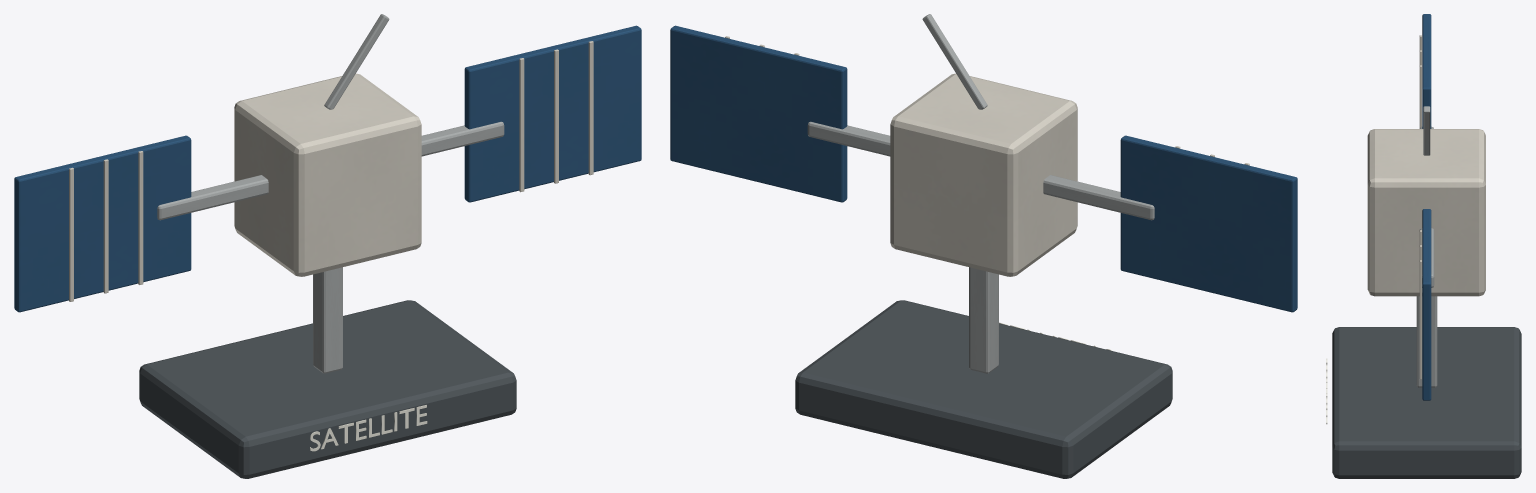
File: satellite_display_miniature.glb
The picture shows the model from 3 angles, left to right: view 1: azimuth 30°, elevation 25°; view 2: azimuth 150°, elevation 25°; view 3: azimuth 270°, elevation 25°; orthographic projection. The views are drawn at different scales.
Parts seen in each view (by area): view 1: DisplayBase.002, SatelliteBus, SolarPanel, SolarPanel.001, DisplayStem, ArrayBoom, ArrayBoom.001, Antenna, LABEL_SATELLITE, CellSeparator.001, CellSeparator.005, CellSeparator.003 (+3 smaller); view 2: DisplayBase.002, SatelliteBus, SolarPanel, SolarPanel.001, DisplayStem, ArrayBoom, ArrayBoom.001, Antenna; view 3: DisplayBase.002, SatelliteBus, SolarPanel.001, DisplayStem, SolarPanel, Antenna, CellSeparator.005, ArrayBoom.001.
Part boxes in pixels (x1,y1,x2,y2): DisplayBase.002: [139, 300, 516, 478]; SatelliteBus: [234, 73, 421, 276]; SolarPanel: [14, 135, 191, 312]; SolarPanel.001: [464, 25, 641, 202]; DisplayStem: [313, 267, 342, 373]; ArrayBoom: [157, 175, 268, 220]; ArrayBoom.001: [421, 121, 504, 156]; Antenna: [324, 14, 389, 109]; LABEL_SATELLITE: [310, 405, 427, 451]; CellSeparator.001: [103, 159, 108, 293]; CellSeparator.005: [588, 41, 593, 175]; CellSeparator.003: [519, 58, 524, 192]; DisplayBase.002: [795, 300, 1172, 478]; SatelliteBus: [890, 73, 1077, 276]; SolarPanel: [1120, 135, 1297, 312]; SolarPanel.001: [670, 25, 847, 202]; DisplayStem: [969, 267, 998, 373]; ArrayBoom: [1043, 175, 1154, 220]; ArrayBoom.001: [807, 121, 890, 156]; Antenna: [922, 14, 987, 109]; DisplayBase.002: [1332, 327, 1521, 478]; SatelliteBus: [1367, 129, 1485, 296]; SolarPanel.001: [1422, 209, 1431, 400]; DisplayStem: [1416, 296, 1437, 387]; SolarPanel: [1422, 14, 1431, 128]; Antenna: [1423, 106, 1430, 155]; CellSeparator.005: [1419, 260, 1421, 379]; ArrayBoom.001: [1420, 228, 1434, 287].
Size of the model in its own units: 1.08 by 0.6328 by 0.3298.
5 materials, 3 textured.
